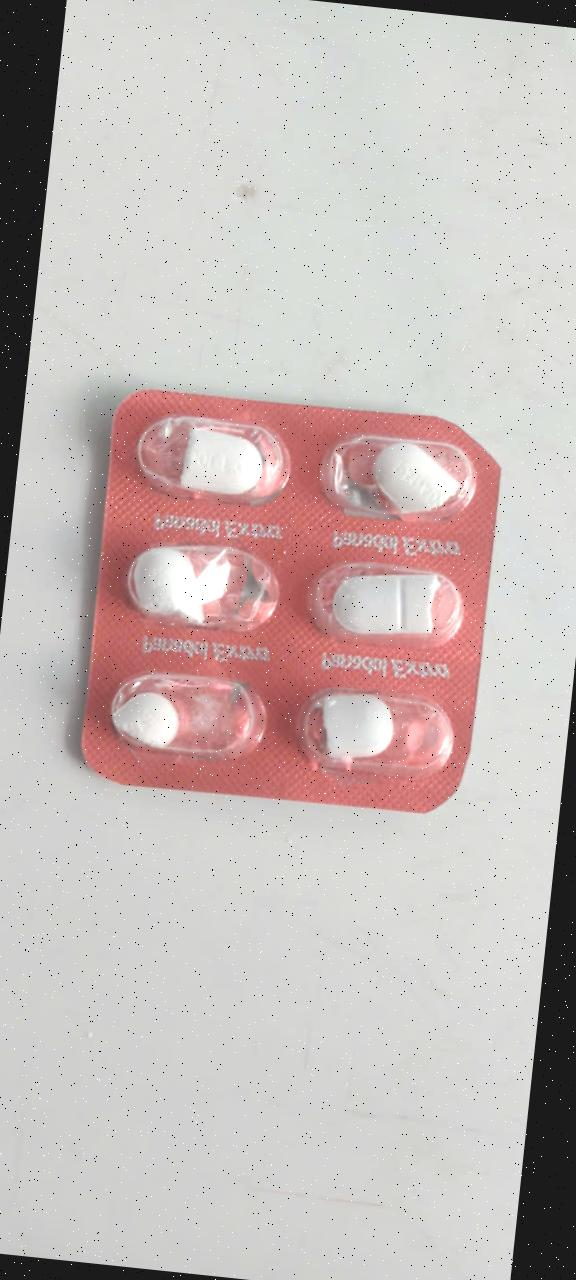Partial: (116, 396, 308, 513), (288, 546, 480, 663), (101, 526, 293, 643), (88, 653, 280, 770), (305, 419, 497, 536), (280, 675, 472, 791)
